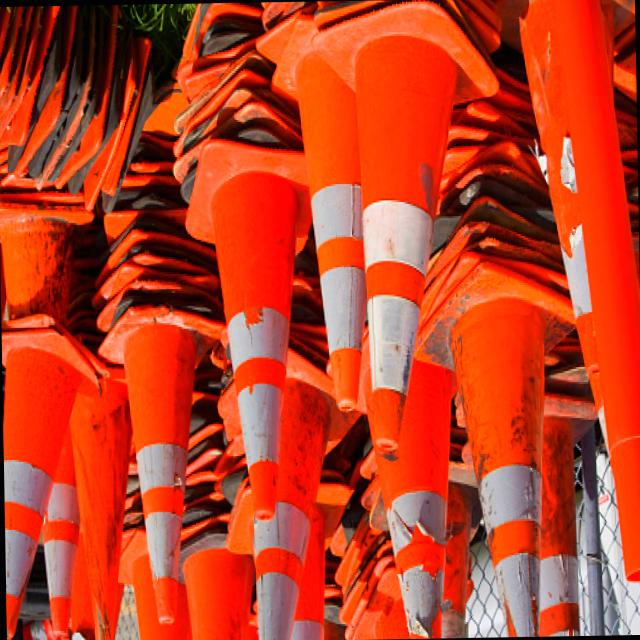cone: (332, 6, 472, 452), (180, 124, 310, 520), (0, 286, 119, 637), (96, 294, 221, 620)
